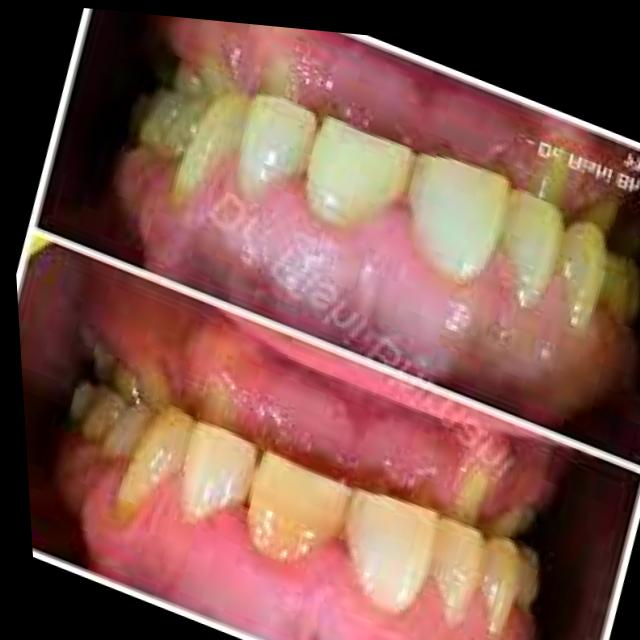tooth-discoloration: (245, 453, 348, 561), (172, 95, 244, 199)
